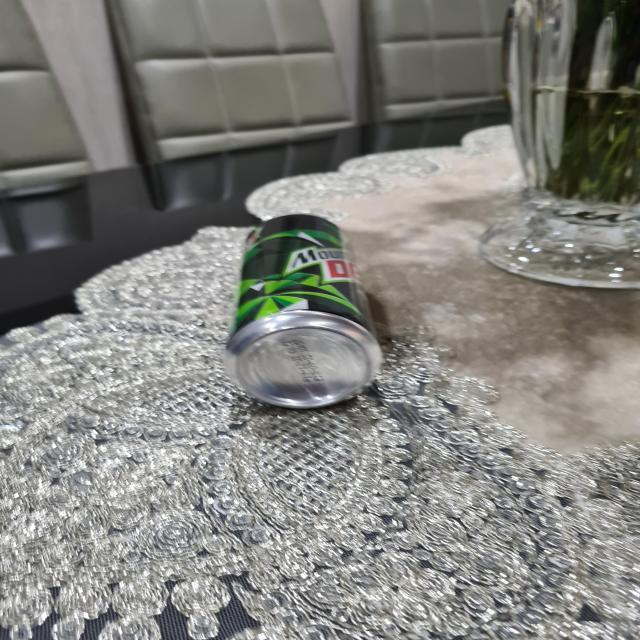can: (227, 211, 364, 414)
